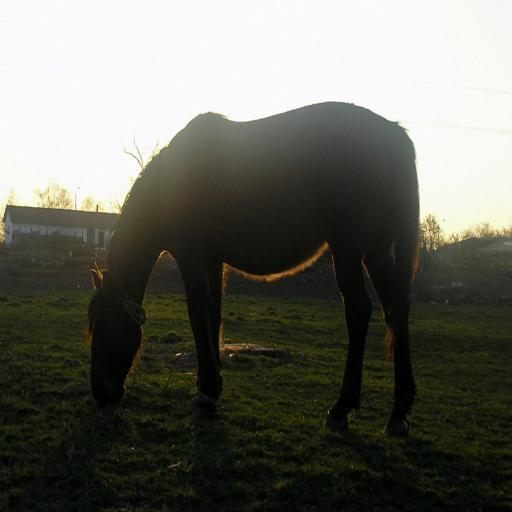horse: (84, 97, 419, 434)
